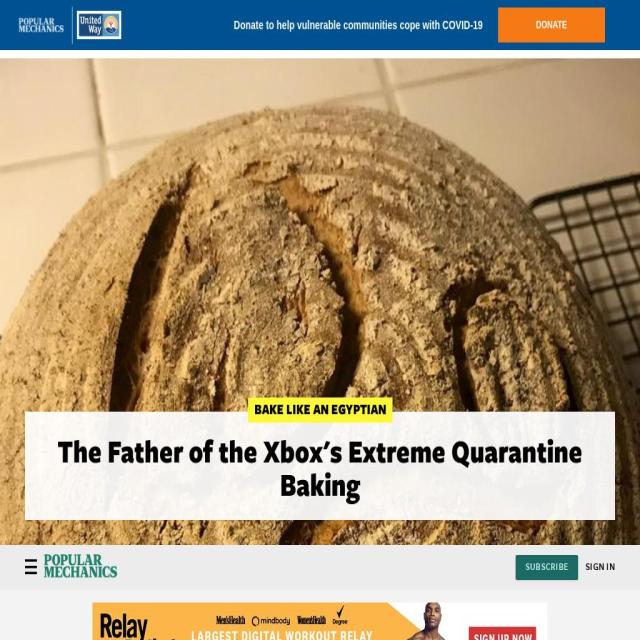button: (0, 58, 640, 545), (498, 8, 606, 42), (43, 554, 118, 578), (515, 554, 579, 580), (501, 17, 602, 33), (586, 562, 615, 573)
heading: (38, 436, 602, 503)
iframe: (92, 601, 547, 640)
image: (43, 554, 118, 578), (76, 11, 122, 39), (19, 18, 64, 32)
text: (0, 58, 640, 545), (248, 398, 392, 423), (234, 18, 443, 32), (442, 18, 482, 32), (586, 562, 615, 573)
